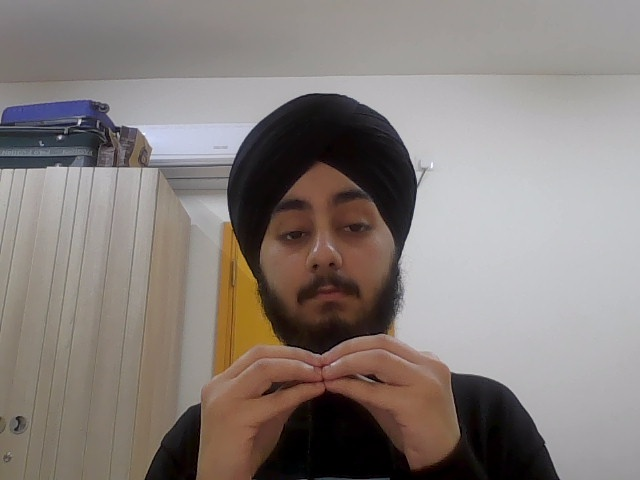More: (193, 327, 462, 480)
